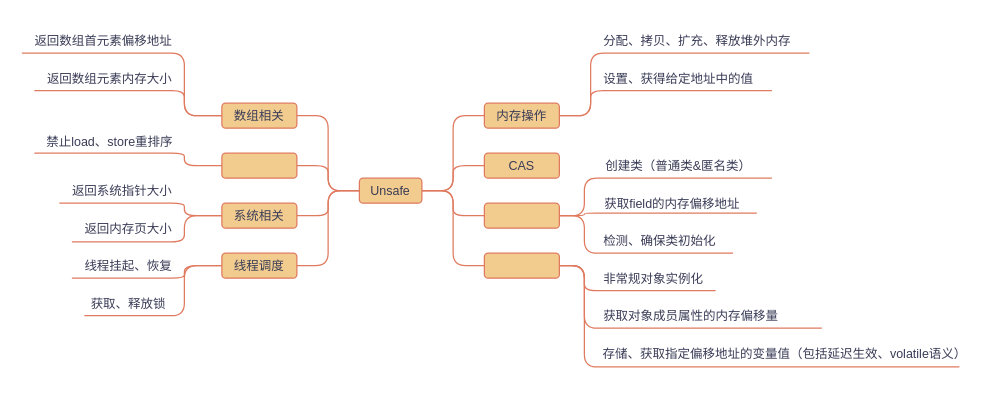
The diagram is 1000 pixels wide and 393 high, and some of its shapes have lost their labels. Here are the shapes that lost their labels. From the top down, the centre of each, then its label:
(x=259, y=165): 内存屏障
(x=521, y=215): Class相关
(x=521, y=265): 对象操作
